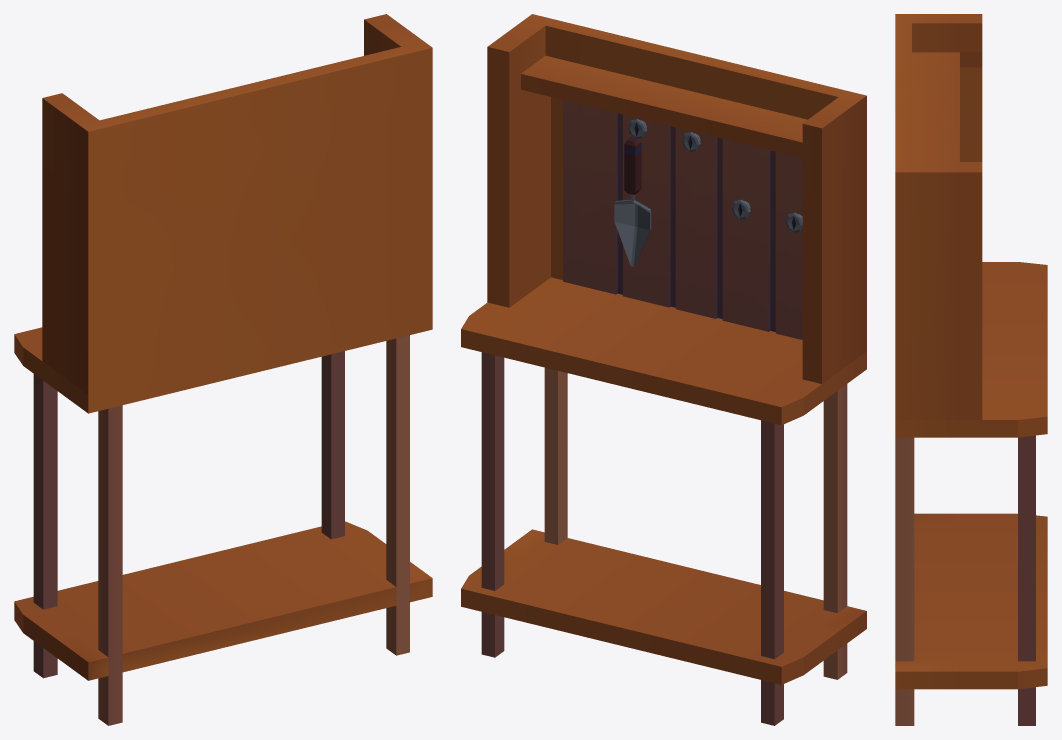
The model's file is Garden_Shelf.fbx.
3 renders of one model, left to right at view 1: azimuth 30°, elevation 25°; view 2: azimuth 150°, elevation 25°; view 3: azimuth 270°, elevation 25°, orthographic. The views are drawn at different scales.
Visible parts, largest first — view 1: Cube.056; view 2: Cube.056; view 3: Cube.056.
Part boxes in pixels (x1,y1,x2,y2): Cube.056: (14, 14, 432, 725); Cube.056: (461, 14, 866, 725); Cube.056: (895, 14, 1047, 725).
Bounding box in the file's own units: 110 × 183 × 44.96.
